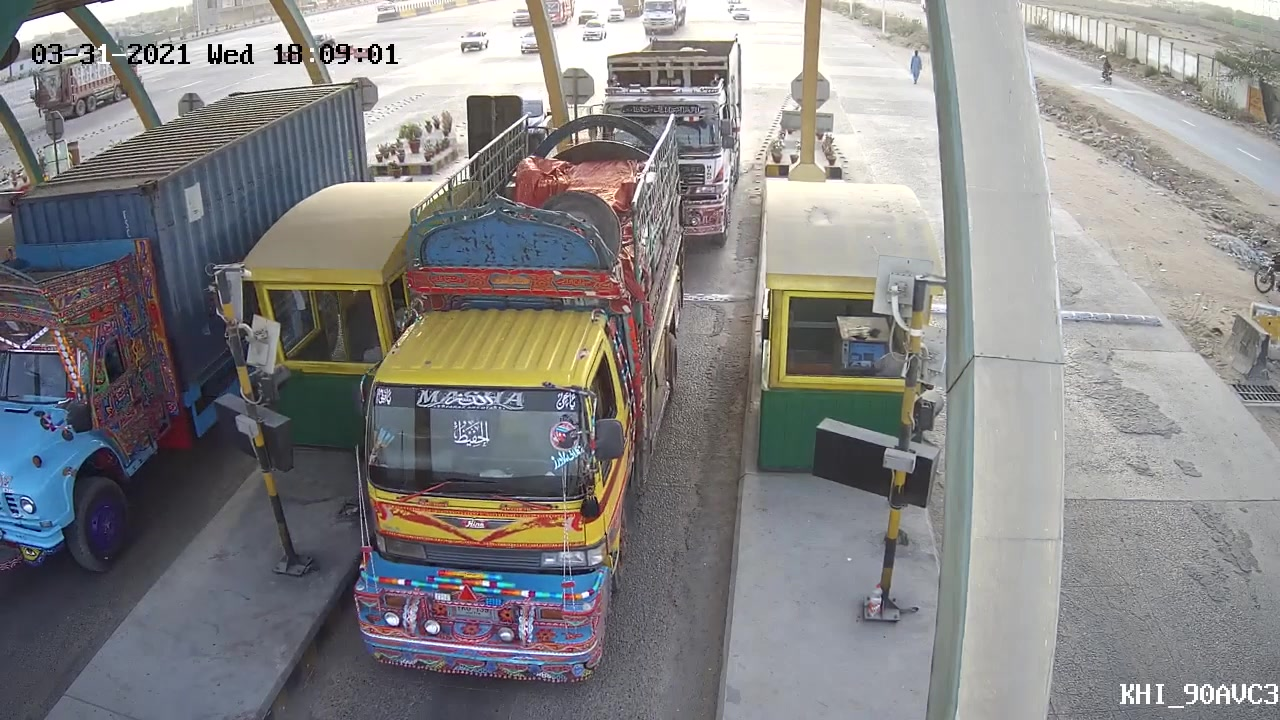F5: (337, 103, 690, 689)
